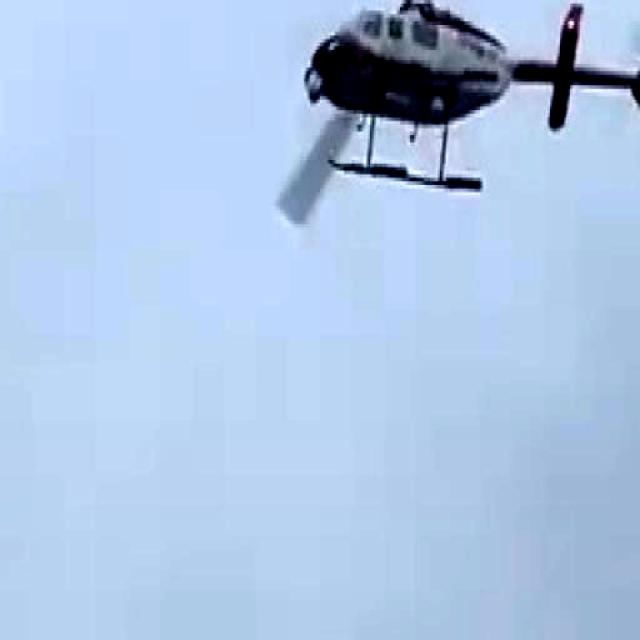drone: (282, 0, 640, 251)
